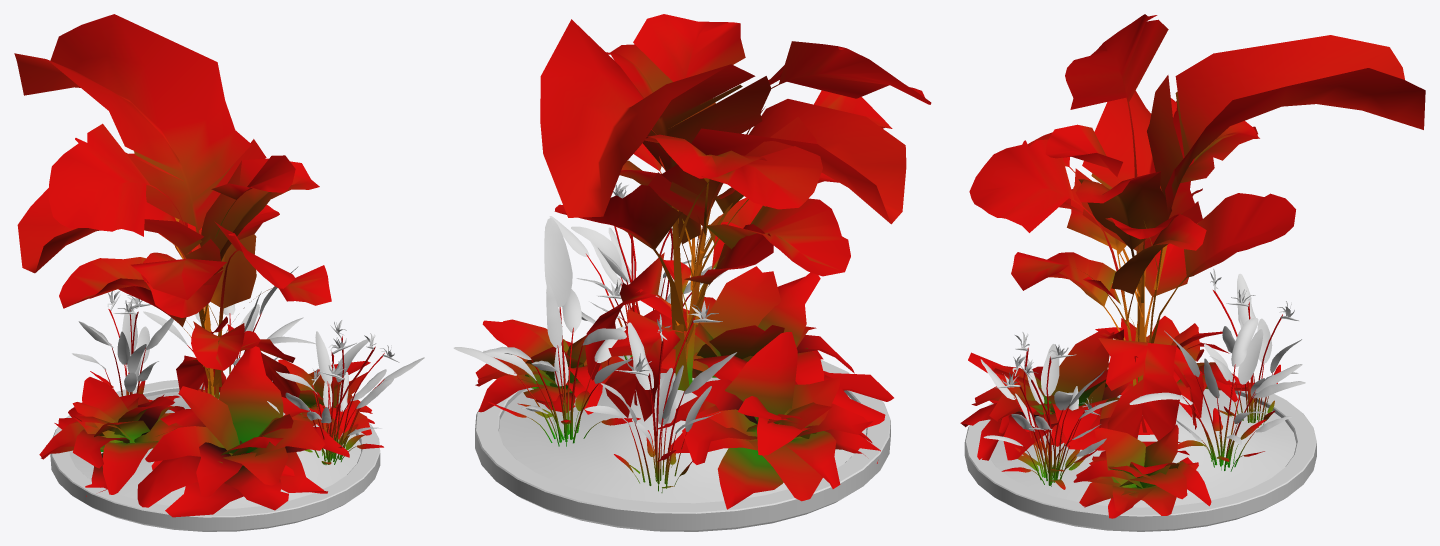
Rendered from SM_CentralGardenShop.fbx.
3 views of the same model, side by side, from view 1: azimuth 30°, elevation 25°; view 2: azimuth 150°, elevation 25°; view 3: azimuth 270°, elevation 25° (orthographic). The views are drawn at different scales.
Visible parts, largest first — view 1: polySurface325, RoundBase, polySurface330, polySurface336, polySurface288, Sand, polySurface332, polySurface334, polySurface331, polySurface343, polySurface300, polySurface345 (+28 smaller); view 2: polySurface325, Sand, RoundBase, polySurface336, polySurface334, polySurface326, polySurface330, polySurface327, polySurface328, polySurface324, polySurface340, polySurface287 (+34 smaller); view 3: polySurface325, RoundBase, Sand, polySurface341, polySurface336, polySurface330, polySurface329, polySurface328, polySurface332, polySurface343, polySurface289, polySurface327 (+24 smaller).
Boxes of the visible parts, x1,y1,x2,y2 form: polySurface325: (14,14,266,396); RoundBase: (50,377,380,531); polySurface330: (48,123,209,393); polySurface336: (17,188,223,394); polySurface288: (219,346,283,444); Sand: (70,391,361,508); polySurface332: (200,158,319,260); polySurface334: (59,257,210,373); polySurface331: (131,258,226,319); polySurface343: (195,226,256,335); polySurface300: (137,455,200,507); polySurface345: (191,321,244,386); polySurface325: (540,19,771,390); Sand: (499,356,866,503); RoundBase: (475,355,890,531); polySurface336: (648,99,906,364); polySurface334: (687,198,850,330); polySurface326: (674,116,822,253); polySurface330: (687,41,931,385); polySurface327: (633,14,745,235); polySurface328: (554,185,686,331); polySurface324: (725,332,797,420); polySurface340: (604,309,689,421); polySurface287: (703,266,780,338); polySurface325: (1147,35,1425,342); RoundBase: (964,369,1316,531); Sand: (990,389,1296,507); polySurface341: (969,139,1136,386); polySurface336: (1074,90,1202,382); polySurface330: (1065,14,1168,382); polySurface329: (1098,338,1181,440); polySurface328: (1151,193,1295,343); polySurface332: (1075,171,1171,283); polySurface343: (1111,213,1206,322); polySurface289: (1052,328,1114,405); polySurface327: (1045,124,1158,272).
Bounding box in the file's own units: 412 × 433 × 462.
